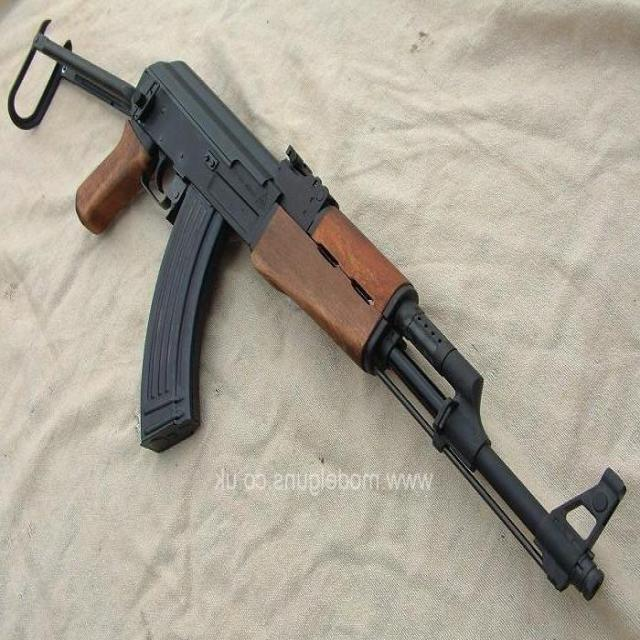Gun: (58, 28, 602, 600)
